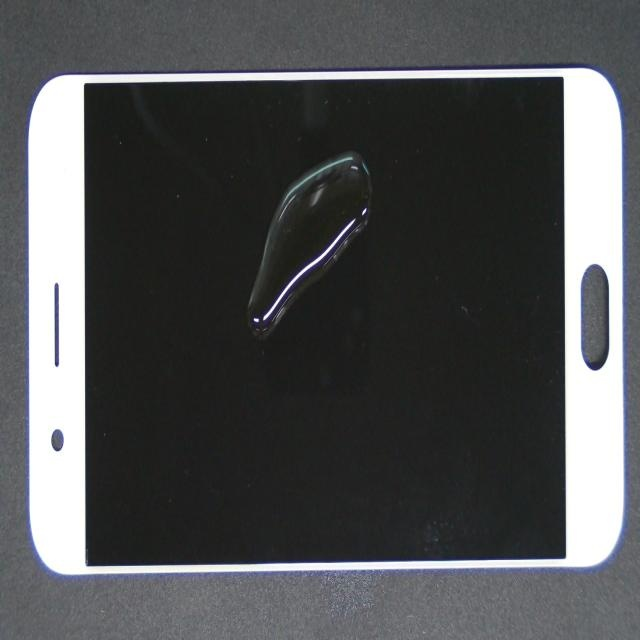oil: (181, 145, 551, 313)
